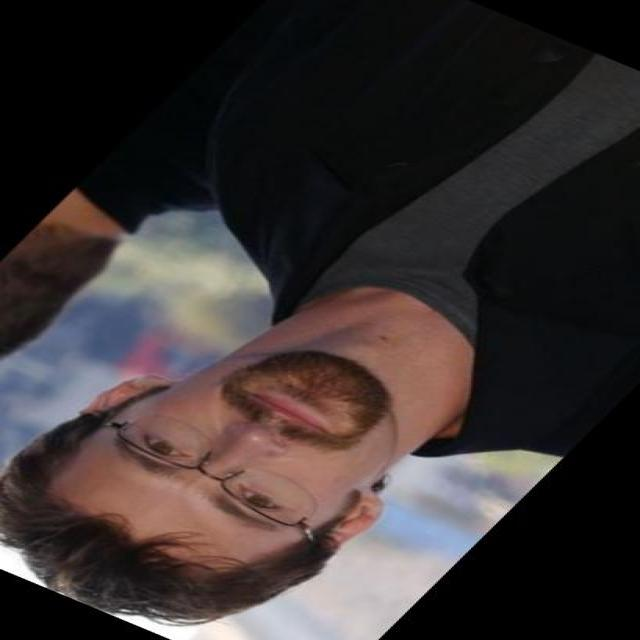glasses: (78, 396, 355, 537)
